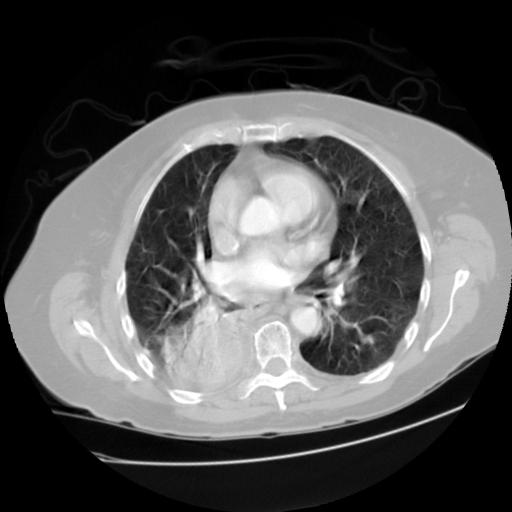nodule: (357, 330, 376, 349)
